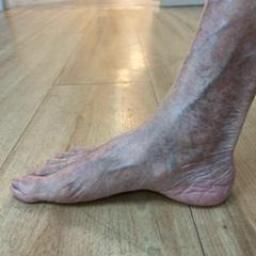Medial View -Right Foot-: (3, 73, 255, 224)
